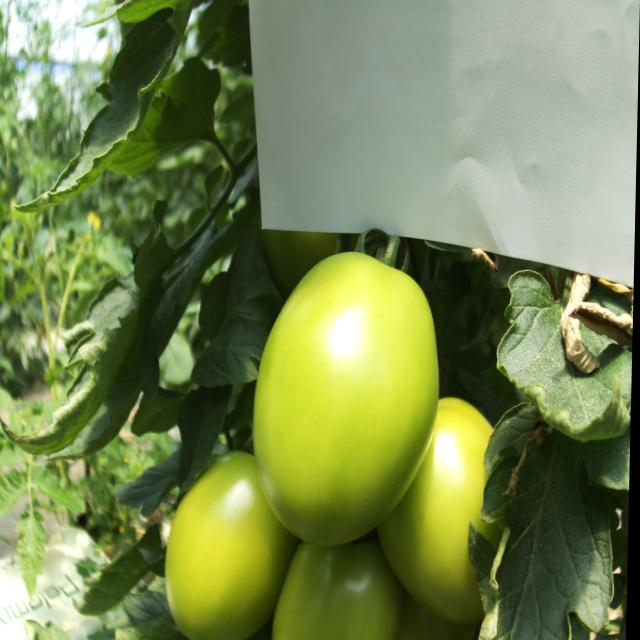yesil: (151, 223, 533, 640)
